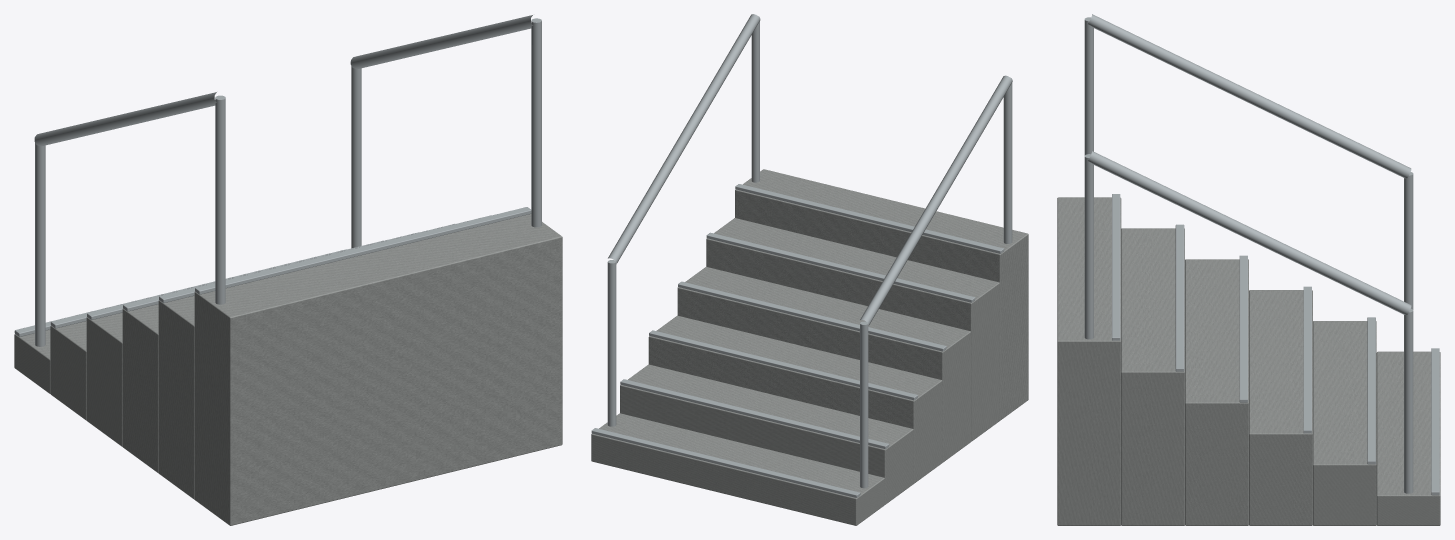
Rendered from liminal-spaces-kit-tiled-stair-d4028013__25231.glb.
The picture shows the model from 3 angles, left to right: view 1: azimuth 30°, elevation 25°; view 2: azimuth 150°, elevation 25°; view 3: azimuth 270°, elevation 25°; orthographic projection. The views are drawn at different scales.
Parts seen in each view (by area): view 1: tiled-stair; view 2: tiled-stair; view 3: tiled-stair.
Boxes of the visible parts, bbox=[...] form: tiled-stair: bbox=[14, 15, 562, 525]; tiled-stair: bbox=[591, 14, 1028, 525]; tiled-stair: bbox=[1057, 14, 1440, 525].
Bounding box in the file's own units: 1.6 × 1.92 × 1.8.
Materials: 2 (1 with a texture image).
